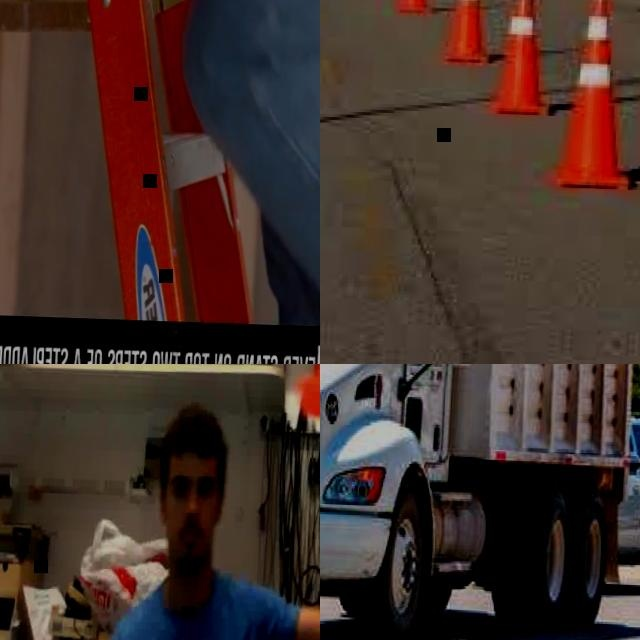NO-Hardhat: (162, 407, 231, 469)
NO-Mask: (171, 522, 215, 566)
NO-Safety Vest: (129, 578, 256, 640)
Person: (97, 399, 320, 640), (168, 0, 320, 326)
Safety Cone: (550, 0, 640, 186), (490, 0, 549, 116), (438, 0, 491, 62)
machinery: (320, 364, 640, 640)
vehicle: (612, 407, 640, 593)
